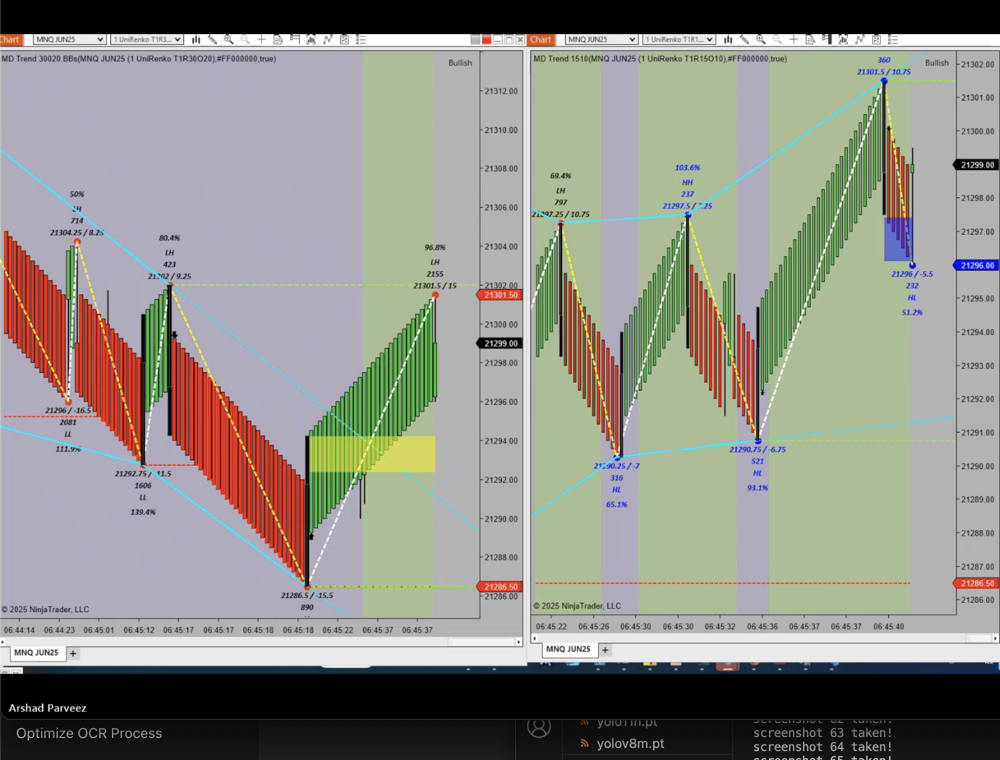HH: (677, 175, 699, 191)
HL: (903, 290, 926, 307), (750, 464, 767, 486), (608, 482, 629, 498)
LH: (66, 203, 90, 220), (160, 243, 181, 262), (551, 182, 574, 197), (426, 259, 449, 270)
LL: (134, 485, 153, 507), (57, 427, 81, 443)
